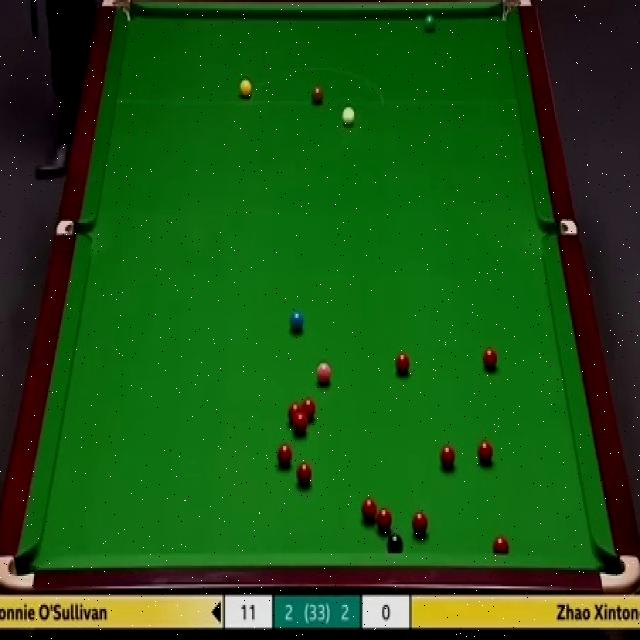black-ball: (387, 531, 404, 554)
blue-ball: (288, 309, 306, 332)
brown-ball: (312, 82, 324, 103)
green-ball: (422, 14, 437, 34)
pink-ball: (316, 362, 332, 388)
red-ball: (439, 444, 458, 471), (411, 512, 429, 539), (394, 349, 411, 377), (360, 498, 378, 524), (274, 445, 294, 468), (377, 504, 392, 534), (478, 440, 495, 465), (291, 469, 310, 490), (287, 402, 302, 428), (482, 347, 497, 372), (302, 398, 316, 422), (492, 534, 510, 552), (293, 416, 309, 436)
white-ball: (342, 105, 356, 128)
yellow-ball: (239, 80, 251, 98)
